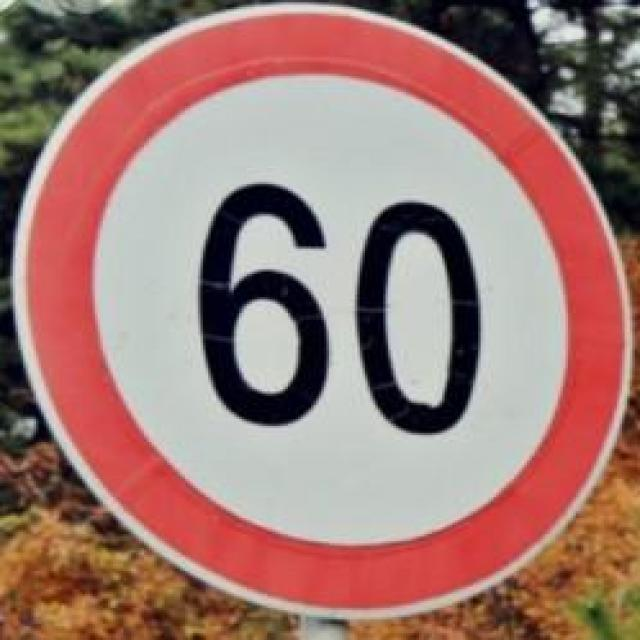Ograniczenie predkosci do 60: (13, 2, 622, 628)
